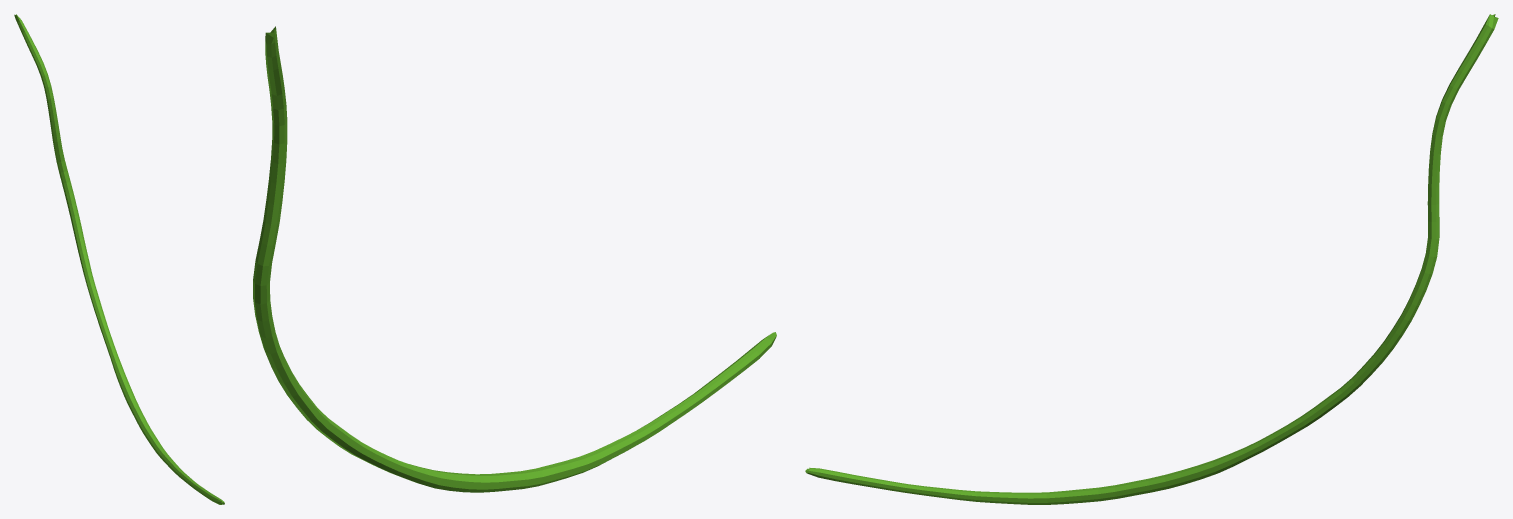
File: Hypoglossal_nerve_L.glb
3 views of the same model, side by side, from view 1: azimuth 30°, elevation 25°; view 2: azimuth 150°, elevation 25°; view 3: azimuth 270°, elevation 25° (orthographic). The views are drawn at different scales.
Parts seen in each view (by area): view 1: Hypoglossal_nerve_L.001; view 2: Hypoglossal_nerve_L.001; view 3: Hypoglossal_nerve_L.001.
Part boxes in pixels (x1,y1,x2,y2): Hypoglossal_nerve_L.001: (14, 14, 224, 504); Hypoglossal_nerve_L.001: (253, 26, 776, 492); Hypoglossal_nerve_L.001: (805, 14, 1498, 504).
Size of the model in its own units: 0.0388 by 0.2144 by 0.2721.
1 material, 1 textured.
